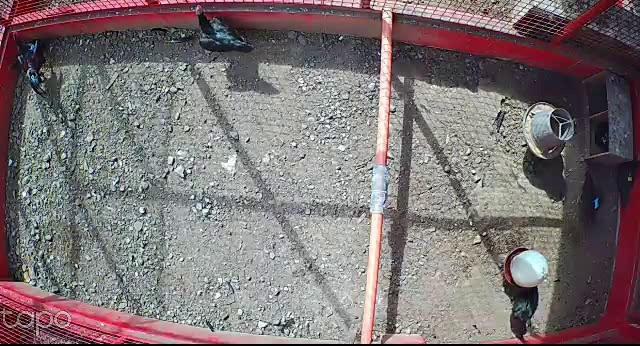Chicken: (189, 2, 257, 55), (571, 170, 606, 227), (612, 155, 640, 217), (511, 282, 542, 332)
Drinker: (501, 247, 550, 289)
Feeder: (520, 102, 578, 161)
Rooster: (10, 20, 59, 100)
Saddle_Color_Blue: (593, 197, 600, 209)
